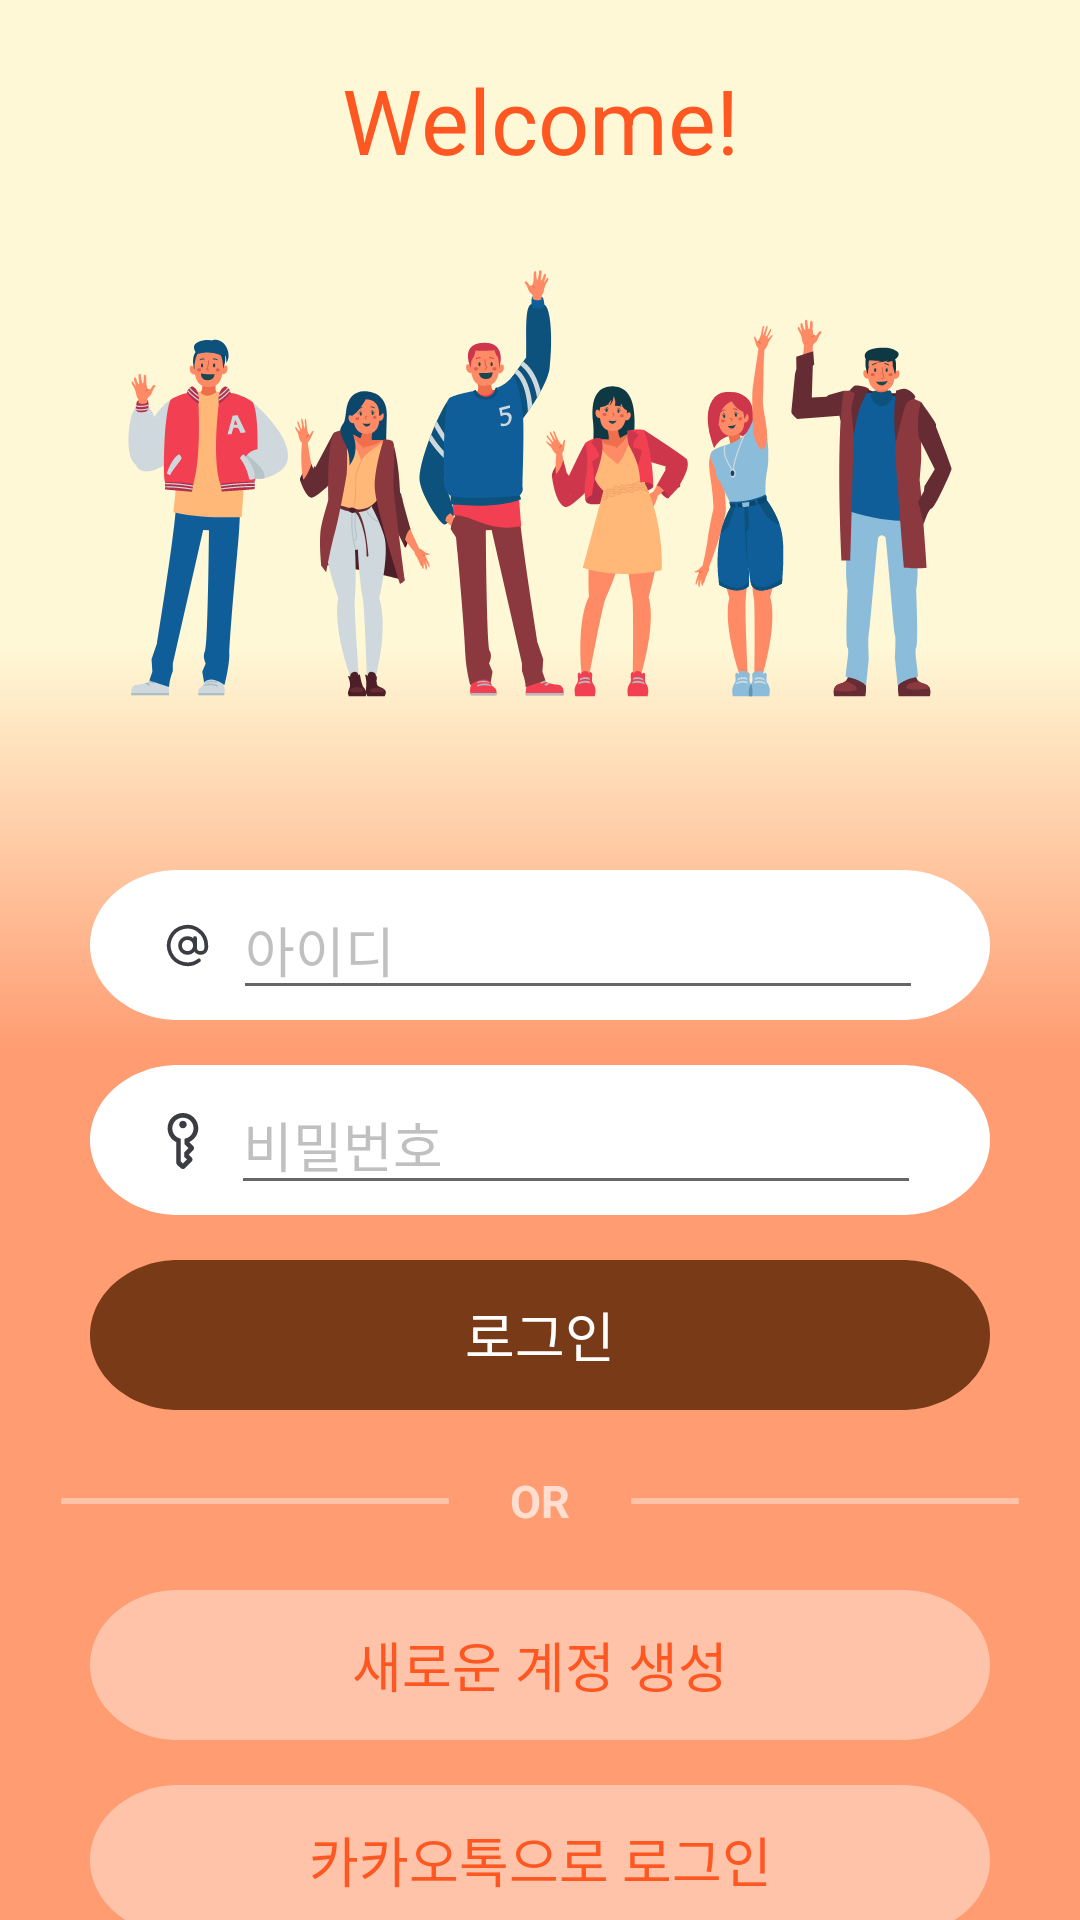

Where to tap for icons on this 1080w x 1920h app screen, as (x,y):
email: (187,945)
login key: (183,1141)
